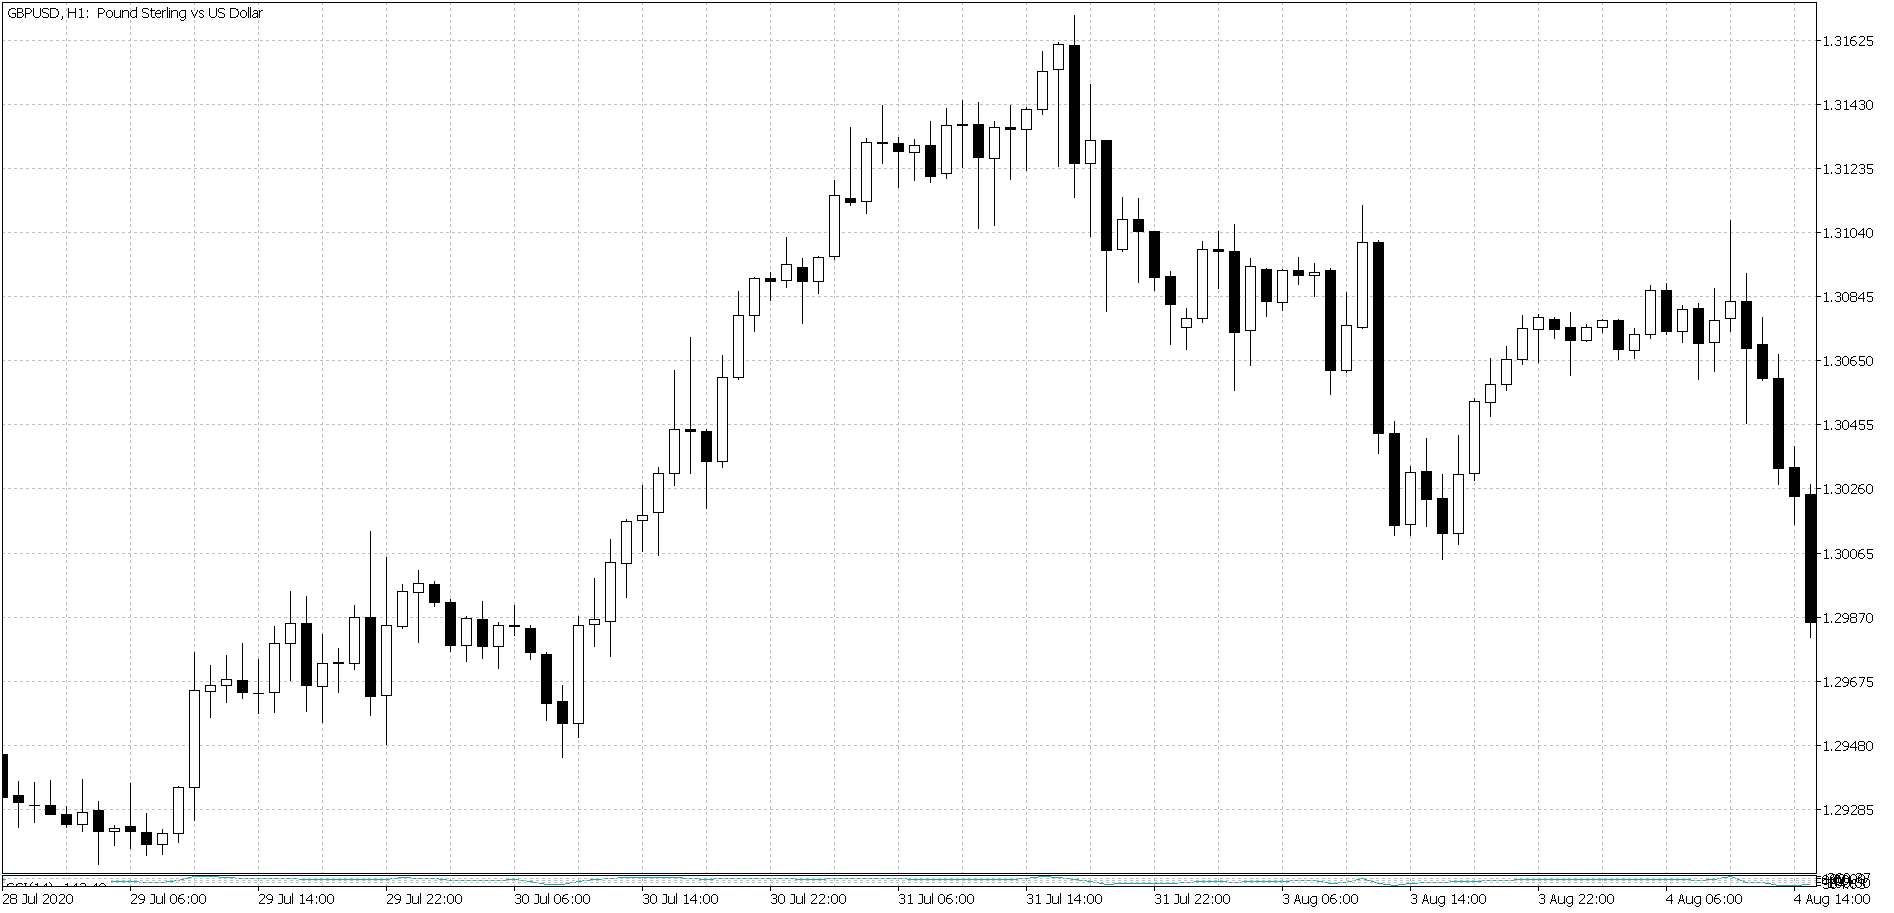bullishEngulfing: (556, 613, 587, 758), (1435, 440, 1466, 565)
eveningDojiStar: (1193, 229, 1243, 365), (939, 101, 986, 219)
morningDojiStar: (236, 623, 281, 711)
